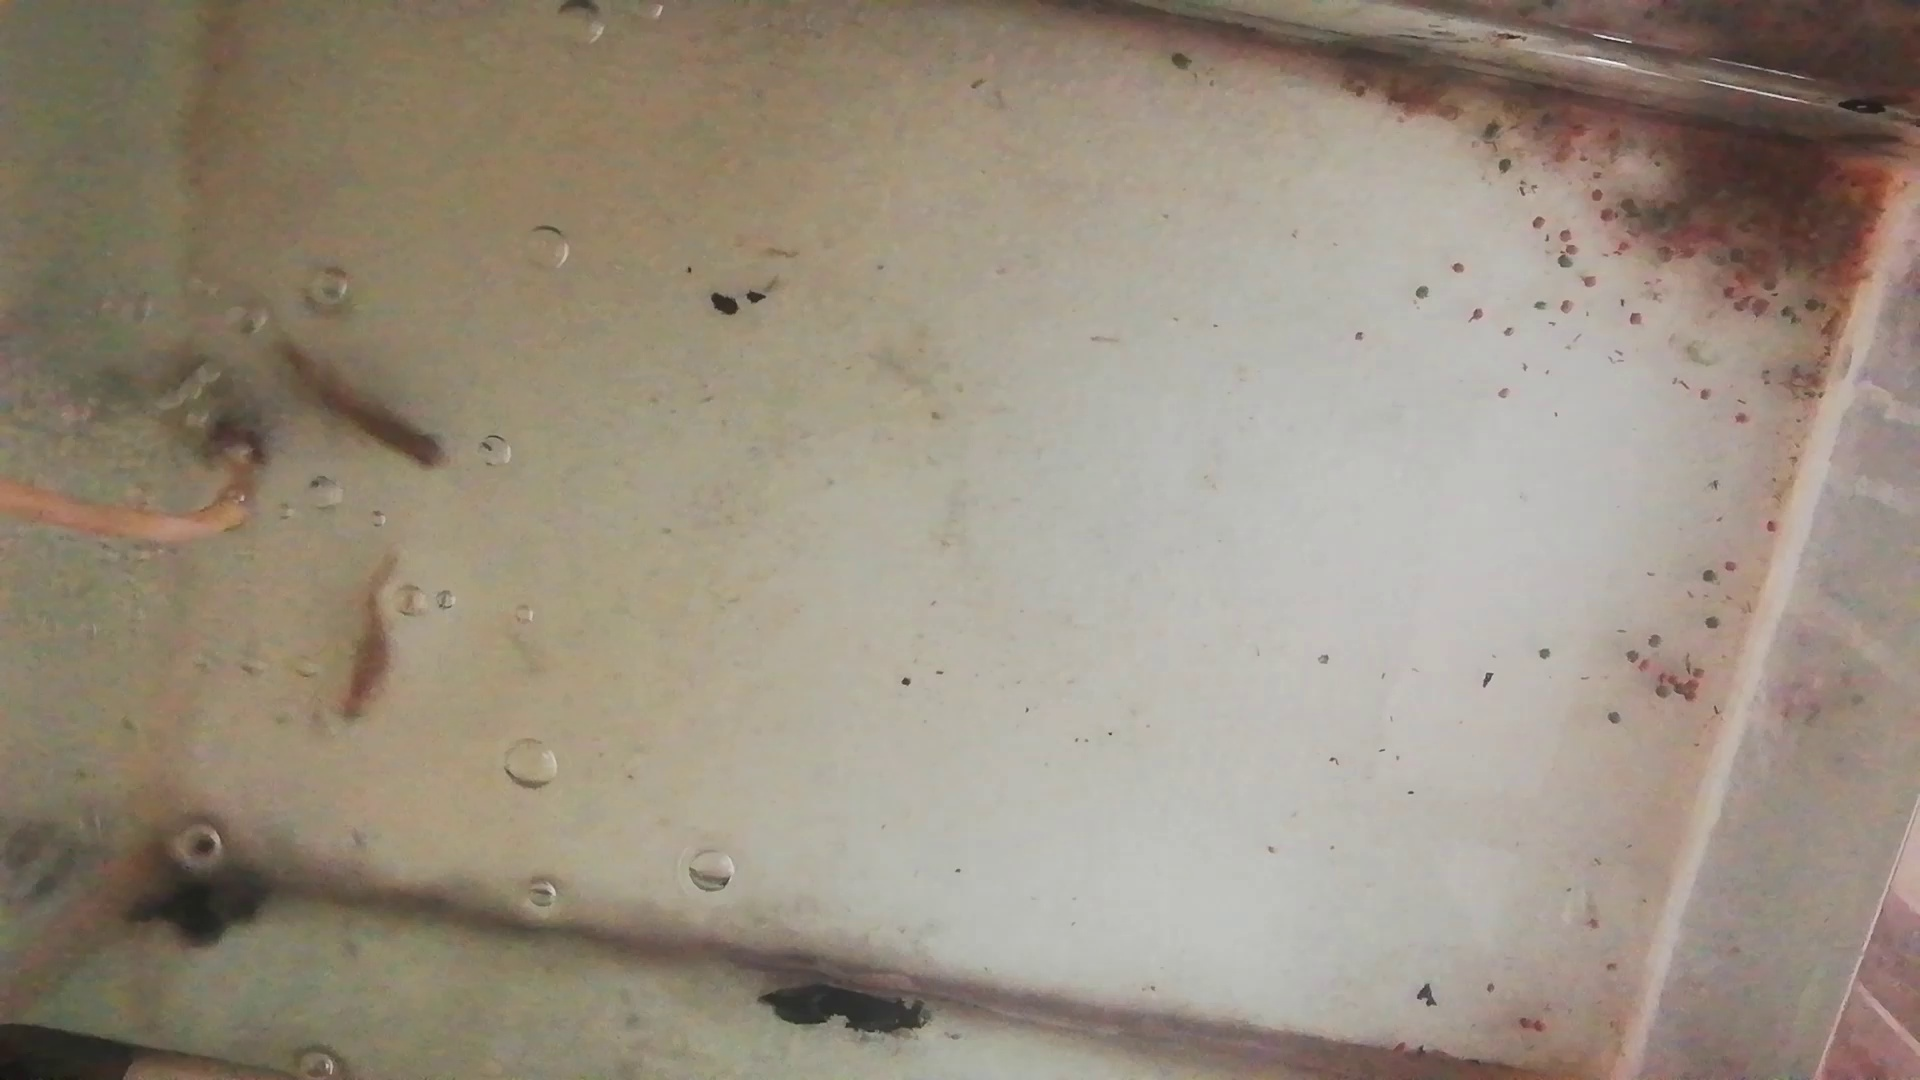fish: (272, 336, 448, 471), (338, 551, 396, 729)
